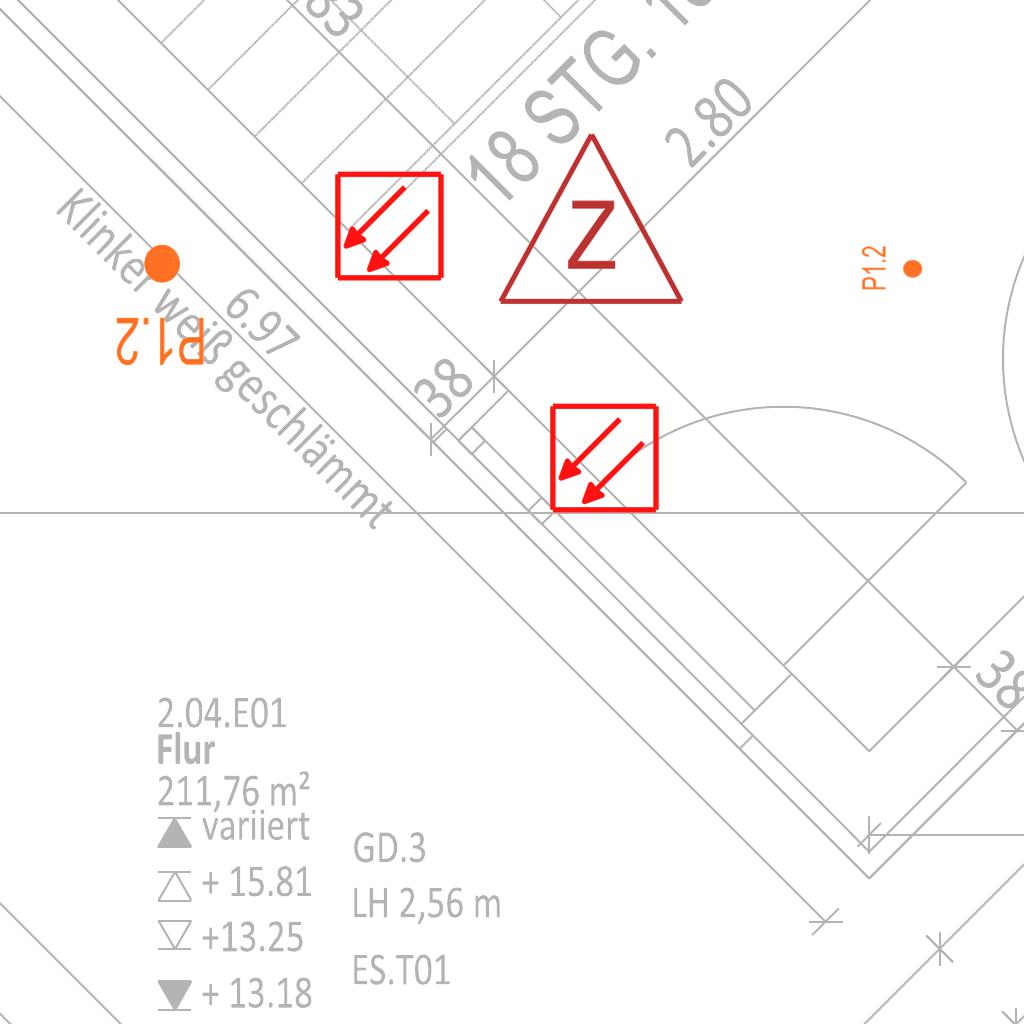Downlight_LED_Einbauleuchten_Flur: (114, 241, 207, 369), (860, 245, 924, 291)
RMO_Rauchmelder_optischer: (548, 402, 661, 515), (333, 170, 446, 283)
Zimmersignalleuchte: (491, 119, 687, 319)
